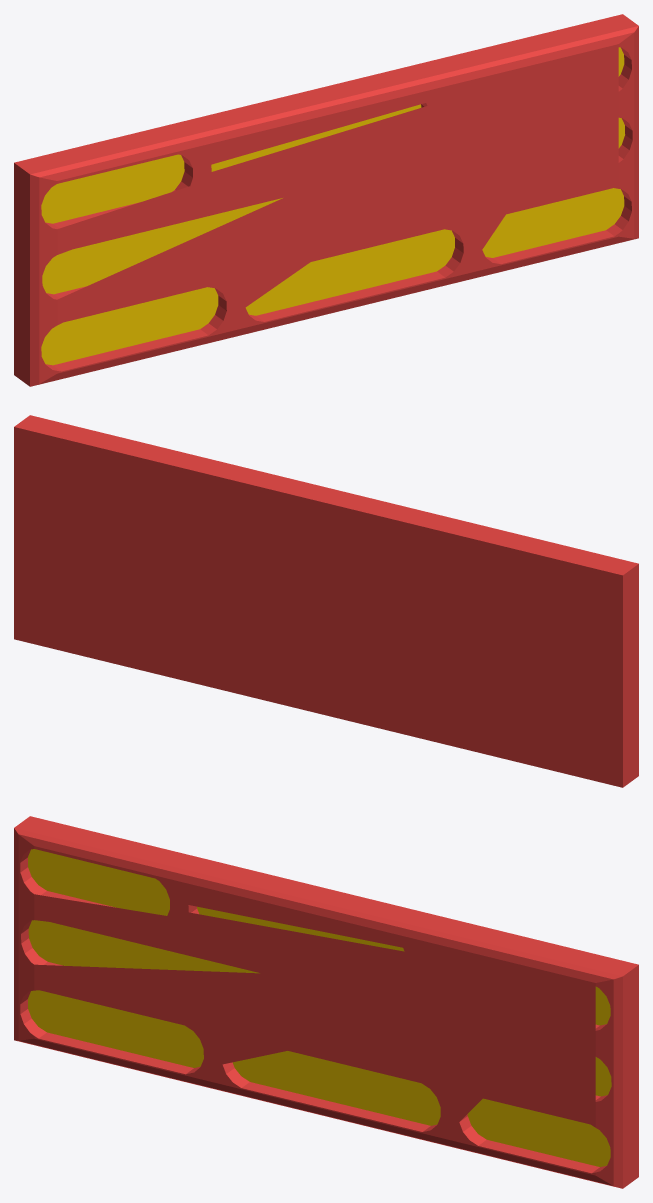
The model's file is lightMain_2.fbx.
3 views of the same model, one above another, from view 1: azimuth 30°, elevation 25°; view 2: azimuth 150°, elevation 25°; view 3: azimuth 330°, elevation 25° (orthographic).
Visible parts, largest first — view 1: lightMain_2; view 2: lightMain_2; view 3: lightMain_2.
Boxes of the visible parts, x1,y1,x2,y2 form: lightMain_2: [14, 14, 638, 386]; lightMain_2: [14, 415, 638, 787]; lightMain_2: [14, 816, 638, 1188].
Size of the model in its own units: 360 by 120 by 20.
